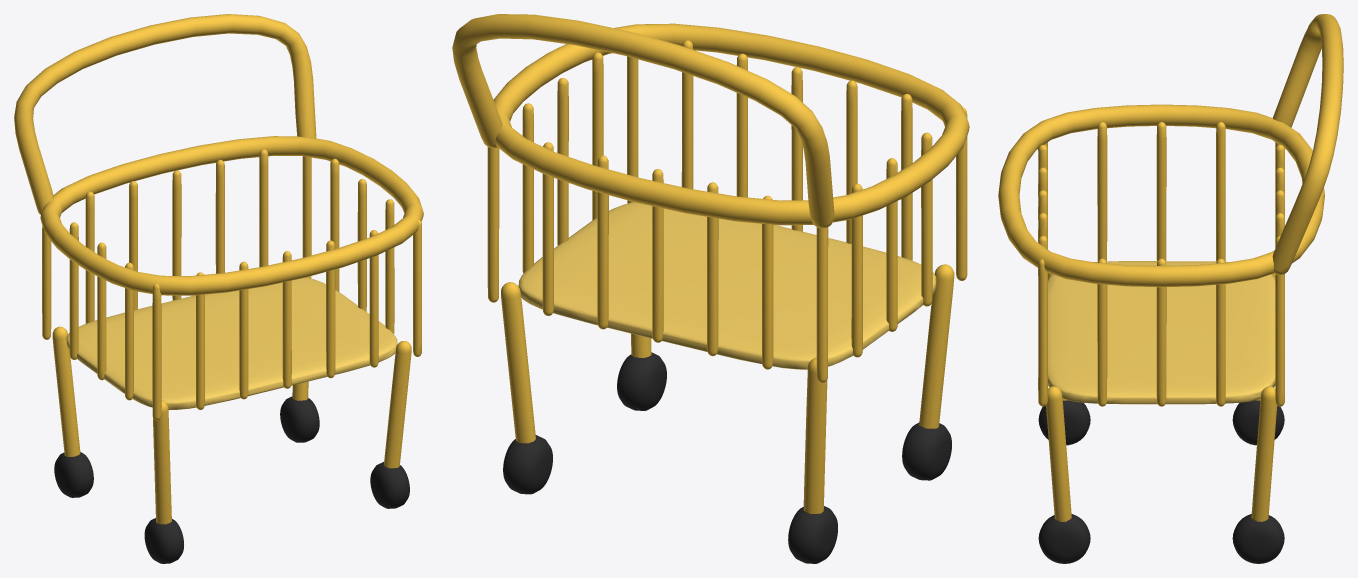
Rendered from carrito_1.glb.
The picture shows the model from 3 angles, left to right: view 1: azimuth 30°, elevation 25°; view 2: azimuth 150°, elevation 25°; view 3: azimuth 270°, elevation 25°; orthographic projection. The views are drawn at different scales.
Visible parts, largest first — view 1: fondo canasta.005, marco canasta.005, manija.004, pata.005, pata.006, pata.004, rueda.003, rueda.001, rueda.002, rueda, barrote.090, barrote.101 (+18 smaller); view 2: fondo canasta.005, marco canasta.005, manija.004, pata.004, pata.007, pata.005, rueda.002, rueda, rueda.003, rueda.001, barrote.103, barrote.091 (+18 smaller); view 3: fondo canasta.005, marco canasta.005, manija.004, pata.007, pata.006, rueda.003, rueda.002, barrote.106, barrote.104, barrote.102, barrote.108, barrote.107 (+5 smaller).
Boxes of the visible parts, bbox=[...] form: fondo canasta.005: bbox=[66, 277, 397, 409]; marco canasta.005: bbox=[40, 136, 423, 295]; manija.004: bbox=[14, 14, 316, 214]; pata.005: bbox=[52, 326, 80, 456]; pata.006: bbox=[384, 341, 411, 468]; pata.004: bbox=[153, 400, 171, 524]; rueda.003: bbox=[280, 396, 319, 442]; rueda.001: bbox=[54, 452, 93, 497]; rueda.002: bbox=[370, 462, 409, 508]; rueda: bbox=[144, 518, 183, 563]; barrote.090: bbox=[152, 283, 161, 420]; barrote.101: bbox=[259, 149, 268, 267]; fondo canasta.005: bbox=[518, 202, 936, 369]; marco canasta.005: bbox=[493, 23, 969, 225]; manija.004: bbox=[452, 14, 834, 228]; pata.004: bbox=[919, 264, 954, 428]; pata.007: bbox=[501, 282, 535, 443]; pata.005: bbox=[803, 357, 827, 513]; rueda.002: bbox=[617, 352, 666, 410]; rueda: bbox=[902, 422, 951, 480]; rueda.003: bbox=[503, 435, 552, 494]; rueda.001: bbox=[788, 506, 837, 563]; barrote.103: bbox=[487, 147, 499, 302]; barrote.091: bbox=[816, 227, 828, 382]; fondo canasta.005: bbox=[1048, 261, 1275, 404]; marco canasta.005: bbox=[998, 104, 1324, 287]; manija.004: bbox=[1272, 14, 1343, 275]; pata.007: bbox=[1251, 386, 1277, 521]; pata.006: bbox=[1046, 386, 1071, 521]; rueda.003: bbox=[1232, 514, 1284, 563]; rueda.002: bbox=[1038, 514, 1090, 563]; barrote.106: bbox=[1156, 122, 1166, 260]; barrote.104: bbox=[1097, 122, 1107, 261]; barrote.102: bbox=[1038, 259, 1047, 406]; barrote.108: bbox=[1216, 122, 1225, 261]; barrote.107: bbox=[1156, 258, 1166, 406].
Bounding box in the file's own units: 0.7479 × 0.9176 × 0.641.
